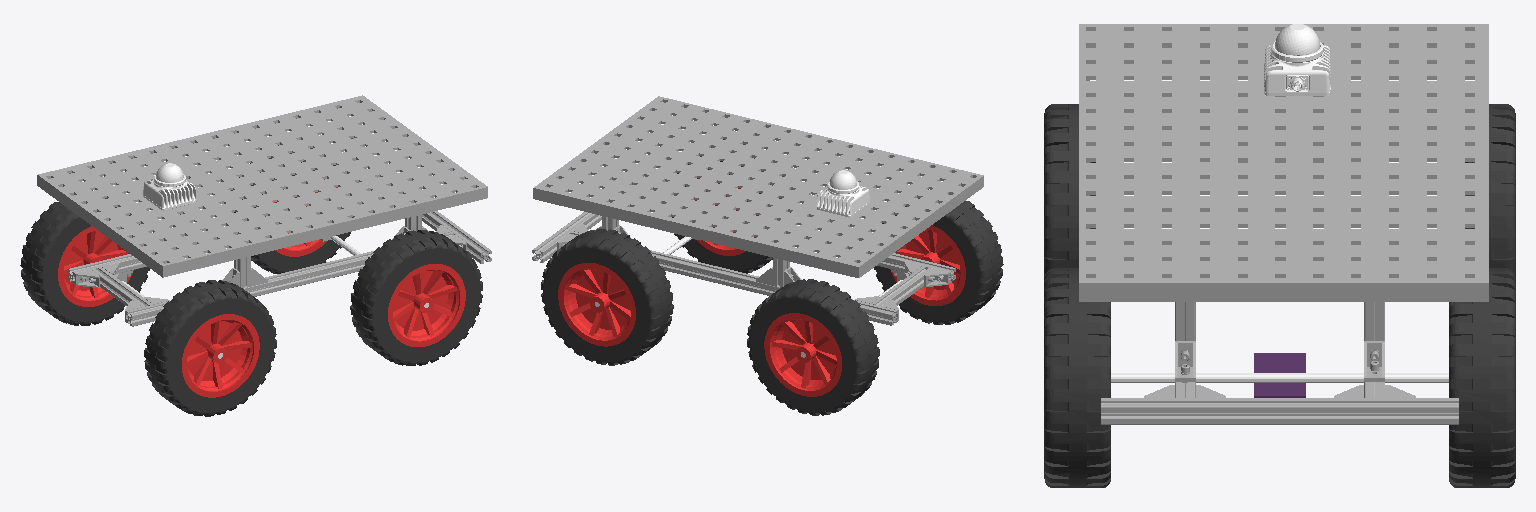
robot.urdf — chassis.SLDASM:
<?xml version="1.0" encoding="utf-8"?>
<!-- This URDF was automatically created by SolidWorks to URDF Exporter! Originally created by
Stephen Brawner (brawner@gmail.com) 
     Commit Version: 1.6.0-4-g7f85cfe  Build Version: 1.6.7995.38578
     For more information, please see http://wiki.ros.org/sw_urdf_exporter -->
<robot
  name="chassis.SLDASM">
  <link name="base_footprint" />

  <joint name="base_footprint_to_base_link" type="fixed">
    <origin xyz="0 0 0.2330727279186138" rpy="3.14159265359 1.57079632679 3.14159265359" />
    <parent link="base_footprint" />
    <child link="base_link" />
  </joint>
  <link
    name="base_link">
    <inertial>
      <origin
        xyz="0.228072734582867 -0.00375850445219656 -0.0522643184271548"
        rpy="0 0 0" />
      <mass
        value="0.05" />
      <inertia
        ixx="5.20833333333333E-05"
        ixy="5.55286076706932E-21"
        ixz="-2.25741069543197E-20"
        iyy="4.20833333333333E-05"
        iyz="-3.52615100073128E-22"
        izz="1.08333333333333E-05" />
    </inertial>
    <visual>
      <origin
        xyz="0 0 0"
        rpy="0 0 0" />
      <geometry>
        <mesh
          filename="package://chassis_description/meshes/base_link.STL" />
      </geometry>
      <material
        name="">
        <color
          rgba="0.419607843137255 0.270588235294118 0.470588235294118 0.4" />
      </material>
    </visual>
    <collision>
      <origin
        xyz="0 0 0"
        rpy="0 0 0" />
      <geometry>
        <mesh
          filename="package://chassis_description/meshes/base_link.STL" />
      </geometry>
    </collision>
  </link>
  <link
    name="fixed_items">
    <inertial>
      <origin
        xyz="-0.0670736533868715 0.00522990404692169 -0.00292033811636873"
        rpy="0 0 0" />
      <mass
        value="1.96081590488597" />
      <inertia
        ixx="0.0869685301037205"
        ixy="6.39163745645689E-08"
        ixz="7.7181344710129E-07"
        iyy="0.0217010273085329"
        iyz="-1.21642949813537E-06"
        izz="0.065602499595821" />
    </inertial>
    <visual>
      <origin
        xyz="0 0 0"
        rpy="0 0 0" />
      <geometry>
        <mesh
          filename="package://chassis_description/meshes/fixed_items.STL" />
      </geometry>
      <material
        name="">
        <color
          rgba="0.752941176470588 0.752941176470588 0.752941176470588 1" />
      </material>
    </visual>
    <collision>
      <origin
        xyz="0 0 0"
        rpy="0 0 0" />
      <geometry>
        <mesh
          filename="package://chassis_description/meshes/fixed_items.STL" />
      </geometry>
    </collision>
  </link>
  <joint
    name="fixed_items"
    type="fixed">
    <origin
      xyz="0.0673120620772911 -0.00375850445219655 0.00448582103263107"
      rpy="1.5707963267949 0 0" />
    <parent
      link="base_link" />
    <child
      link="fixed_items" />
    <axis
      xyz="0 0 0" />
  </joint>
  <link
    name="front_right">
    <inertial>
      <origin
        xyz="-1.23182001737776E-07 0.0354019102272813 5.51296193279649E-08"
        rpy="0 0 0" />
      <mass
        value="0.259428239938463" />
      <inertia
        ixx="0.00136216281068031"
        ixy="4.80923773861825E-10"
        ixz="-4.40164286014686E-10"
        iyy="0.00241162687278075"
        iyz="-1.04609215286613E-10"
        izz="0.00136215983170492" />
    </inertial>
    <visual>
      <origin
        xyz="0 0 0"
        rpy="0 0 0" />
      <geometry>
        <mesh
          filename="package://chassis_description/meshes/front_right.STL" />
      </geometry>
      <material
        name="">
        <color
          rgba="0.298039215686275 0.298039215686275 0.298039215686275 1" />
      </material>
    </visual>
    <collision>
      <origin
        xyz="0 0 0"
        rpy="0 0 0" />
      <geometry>
        <mesh
          filename="package://chassis_description/meshes/front_right.STL" />
      </geometry>
    </collision>
  </link>
  <joint
    name="front_right"
    type="fixed">
    <origin
      xyz="0.125572734582867 0.158343897850315 -0.21382268634779"
      rpy="0 1.31280559336702 0" />
    <parent
      link="base_link" />
    <child
      link="front_right" />
    <axis
      xyz="0 1 0" />
  </joint>
  <link
    name="front_right_wheel">
    <inertial>
      <origin
        xyz="0 0.0353975978318701 2.36297093003657E-12"
        rpy="0 0 0" />
      <mass
        value="0.492078704293848" />
      <inertia
        ixx="0.000685024208918095"
        ixy="-1.46073348139392E-19"
        ixz="-8.13151629364128E-20"
        iyy="0.00118197177455513"
        iyz="6.72087910854188E-20"
        izz="0.000685024208884099" />
    </inertial>
    <visual>
      <origin
        xyz="0 0 0"
        rpy="0 0 0" />
      <geometry>
        <mesh
          filename="package://chassis_description/meshes/front_right_wheel.STL" />
      </geometry>
      <material
        name="">
        <color
          rgba="0.968627450980392 0.258823529411765 0.258823529411765 1" />
      </material>
    </visual>
    <collision>
      <origin
        xyz="0 0 0"
        rpy="0 0 0" />
      <geometry>
        <mesh
          filename="package://chassis_description/meshes/front_right_wheel.STL" />
      </geometry>
    </collision>
  </link>
  <joint
    name="front_right_wheel"
    type="continuous">
    <origin
      xyz="0 0 0"
      rpy="0 -0.577811257152481 0" />
    <parent
      link="front_right" />
    <child
      link="front_right_wheel" />
    <axis
      xyz="0 -1 0" />
  </joint>
  <link
    name="front_left">
    <inertial>
      <origin
        xyz="1.35158294001236E-08 -0.0353932639104869 5.11564002270148E-09"
        rpy="0 0 0" />
      <mass
        value="0.259428711608086" />
      <inertia
        ixx="0.0013621629460603"
        ixy="7.40413894978209E-11"
        ixz="-2.64282213870365E-10"
        iyy="0.00241162997210687"
        iyz="1.71356834621018E-11"
        izz="0.00136216302311896" />
    </inertial>
    <visual>
      <origin
        xyz="0 0 0"
        rpy="0 0 0" />
      <geometry>
        <mesh
          filename="package://chassis_description/meshes/front_left.STL" />
      </geometry>
      <material
        name="">
        <color
          rgba="0.298039215686275 0.298039215686275 0.298039215686275 1" />
      </material>
    </visual>
    <collision>
      <origin
        xyz="0 0 0"
        rpy="0 0 0" />
      <geometry>
        <mesh
          filename="package://chassis_description/meshes/front_left.STL" />
      </geometry>
    </collision>
  </link>
  <joint
    name="front_left"
    type="fixed">
    <origin
      xyz="0.125572734582867 -0.16586090675474 -0.213822686347791"
      rpy="0 1.31280559336702 0" />
    <parent
      link="base_link" />
    <child
      link="front_left" />
    <axis
      xyz="0 1 0" />
  </joint>
  <link
    name="front_left_wheel">
    <inertial>
      <origin
        xyz="5.55111512312578E-17 -0.0353975975630757 2.36291541888534E-12"
        rpy="0 0 0" />
      <mass
        value="0.492078704293848" />
      <inertia
        ixx="0.000685024208918095"
        ixy="-1.22384251274877E-19"
        ixz="-5.42101086242752E-20"
        iyy="0.00118197177455513"
        iyz="2.82340898889023E-20"
        izz="0.000685024208884099" />
    </inertial>
    <visual>
      <origin
        xyz="0 0 0"
        rpy="0 0 0" />
      <geometry>
        <mesh
          filename="package://chassis_description/meshes/front_left_wheel.STL" />
      </geometry>
      <material
        name="">
        <color
          rgba="0.968627450980392 0.258823529411765 0.258823529411765 1" />
      </material>
    </visual>
    <collision>
      <origin
        xyz="0 0 0"
        rpy="0 0 0" />
      <geometry>
        <mesh
          filename="package://chassis_description/meshes/front_left_wheel.STL" />
      </geometry>
    </collision>
  </link>
  <joint
    name="front_left_wheel"
    type="continuous">
    <origin
      xyz="0 0 0"
      rpy="0 -0.577811257152481 0" />
    <parent
      link="front_left" />
    <child
      link="front_left_wheel" />
    <axis
      xyz="0 -1 0" />
  </joint>
  <link
    name="rare_left">
    <inertial>
      <origin
        xyz="9.49505991887367E-08 -0.035393286004898 1.23302397445069E-07"
        rpy="0 0 0" />
      <mass
        value="0.259428227502147" />
      <inertia
        ixx="0.00136216080806037"
        ixy="-2.26332760363519E-10"
        ixz="1.69725354132394E-09"
        iyy="0.00241162679846269"
        iyz="-3.89204321173845E-10"
        izz="0.00136216174542507" />
    </inertial>
    <visual>
      <origin
        xyz="0 0 0"
        rpy="0 0 0" />
      <geometry>
        <mesh
          filename="package://chassis_description/meshes/rare_left.STL" />
      </geometry>
      <material
        name="">
        <color
          rgba="0.298039215686275 0.298039215686275 0.298039215686275 1" />
      </material>
    </visual>
    <collision>
      <origin
        xyz="0 0 0"
        rpy="0 0 0" />
      <geometry>
        <mesh
          filename="package://chassis_description/meshes/rare_left.STL" />
      </geometry>
    </collision>
  </link>
  <joint
    name="rare_left"
    type="fixed">
    <origin
      xyz="0.125572734582867 -0.16586090675474 0.166211482877379"
      rpy="0 -1.0423567919101 0" />
    <parent
      link="base_link" />
    <child
      link="rare_left" />
    <axis
      xyz="0 1 0" />
  </joint>
  <link
    name="rare_left_wheel">
    <inertial>
      <origin
        xyz="2.32464048011138E-12 -0.0353975975630755 4.230227279578E-13"
        rpy="0 0 0" />
      <mass
        value="0.492078704293848" />
      <inertia
        ixx="0.000685024208885188"
        ixy="3.78132284208099E-20"
        ixz="-5.9879062971023E-15"
        iyy="0.00118197177455512"
        iyz="1.31780861220297E-20"
        izz="0.000685024208917004" />
    </inertial>
    <visual>
      <origin
        xyz="0 0 0"
        rpy="0 0 0" />
      <geometry>
        <mesh
          filename="package://chassis_description/meshes/rare_left_wheel.STL" />
      </geometry>
      <material
        name="">
        <color
          rgba="0.968627450980392 0.258823529411765 0.258823529411765 1" />
      </material>
    </visual>
    <collision>
      <origin
        xyz="0 0 0"
        rpy="0 0 0" />
      <geometry>
        <mesh
          filename="package://chassis_description/meshes/rare_left_wheel.STL" />
      </geometry>
    </collision>
  </link>
  <joint
    name="rare_left_wheel"
    type="continuous">
    <origin
      xyz="0 0 0"
      rpy="0 -0.57781125715248 0" />
    <parent
      link="rare_left" />
    <child
      link="rare_left_wheel" />
    <axis
      xyz="0 -1 0" />
  </joint>
  <link
    name="rare_right">
    <inertial>
      <origin
        xyz="-1.10520934071268E-09 0.0354019333270385 5.44597289486859E-09"
        rpy="0 0 0" />
      <mass
        value="0.259428831657285" />
      <inertia
        ixx="0.0013621636268984"
        ixy="3.14627818978861E-11"
        ixz="4.97141442595828E-11"
        iyy="0.00241163082582338"
        iyz="-7.17181289090968E-11"
        izz="0.0013621631462981" />
    </inertial>
    <visual>
      <origin
        xyz="0 0 0"
        rpy="0 0 0" />
      <geometry>
        <mesh
          filename="package://chassis_description/meshes/rare_right.STL" />
      </geometry>
      <material
        name="">
        <color
          rgba="0.298039215686275 0.298039215686275 0.298039215686275 1" />
      </material>
    </visual>
    <collision>
      <origin
        xyz="0 0 0"
        rpy="0 0 0" />
      <geometry>
        <mesh
          filename="package://chassis_description/meshes/rare_right.STL" />
      </geometry>
    </collision>
  </link>
  <joint
    name="rare_right"
    type="fixed">
    <origin
      xyz="0.125572734582867 0.158343897850315 0.166211482877379"
      rpy="0 -1.0423567919101 0" />
    <parent
      link="base_link" />
    <child
      link="rare_right" />
    <axis
      xyz="0 1 0" />
  </joint>
  <link
    name="rare_right_wheel">
    <inertial>
      <origin
        xyz="2.32472374683823E-12 0.0353975978318702 4.22994972382185E-13"
        rpy="0 0 0" />
      <mass
        value="0.492078704293848" />
      <inertia
        ixx="0.000685024208885188"
        ixy="2.07548779155651E-21"
        ixz="-5.9879367902884E-15"
        iyy="0.00118197177455512"
        iyz="3.01757565830602E-20"
        izz="0.000685024208917004" />
    </inertial>
    <visual>
      <origin
        xyz="0 0 0"
        rpy="0 0 0" />
      <geometry>
        <mesh
          filename="package://chassis_description/meshes/rare_right_wheel.STL" />
      </geometry>
      <material
        name="">
        <color
          rgba="0.968627450980392 0.258823529411765 0.258823529411765 1" />
      </material>
    </visual>
    <collision>
      <origin
        xyz="0 0 0"
        rpy="0 0 0" />
      <geometry>
        <mesh
          filename="package://chassis_description/meshes/rare_right_wheel.STL" />
      </geometry>
    </collision>
  </link>
  <joint
    name="rare_right_wheel"
    type="continuous">
    <origin
      xyz="0 0 0"
      rpy="0 -0.57781125715248 0" />
    <parent
      link="rare_right" />
    <child
      link="rare_right_wheel" />
    <axis
      xyz="0 -1 0" />
  </joint>
  <link
    name="lidar_link">
    <inertial>
      <origin
        xyz="-0.0145681991391865 0.0284002458613972 -0.00338045257653012"
        rpy="0 0 0" />
      <mass
        value="0.0525946177514041" />
      <inertia
        ixx="1.13747417843716E-05"
        ixy="-2.72968524257275E-07"
        ixz="5.62088665543768E-09"
        iyy="1.9169855537674E-05"
        iyz="-4.04646172713212E-10"
        izz="1.13970227201131E-05" />
    </inertial>
    <visual>
      <origin
        xyz="0 0 0"
        rpy="0 0 0" />
      <geometry>
        <mesh
          filename="package://chassis_description/meshes/lidar_link.STL" />
      </geometry>
      <material
        name="">
        <color
          rgba="1 1 1 1" />
      </material>
    </visual>
    <collision>
      <origin
        xyz="0 0 0"
        rpy="0 0 0" />
      <geometry>
        <mesh
          filename="package://chassis_description/meshes/lidar_link.STL" />
      </geometry>
    </collision>
  </link>
  <joint
    name="lidar_link"
    type="fixed">
    <origin
      xyz="-0.04 0.00999999999999999 -0.15"
      rpy="1.57079632679489 -1.5358897417551 0" />
    <parent
      link="base_link" />
    <child
      link="lidar_link" />
    <axis
      xyz="0 0 0" />
  </joint>
  <link
    name="front_axel">
    <inertial>
      <origin
        xyz="0.000572734582866663 0.00117731365220958 0.00375850445219654"
        rpy="0 0 0" />
      <mass
        value="0.0361283155162826" />
      <inertia
        ixx="0.000637288432242427"
        ixy="-1.58542950739347E-24"
        ixz="-8.34365827143462E-20"
        iyy="0.000637288432242427"
        iyz="1.55301521119099E-19"
        izz="4.51603943953533E-07" />
    </inertial>
    <visual>
      <origin
        xyz="0 0 0"
        rpy="0 0 0" />
      <geometry>
        <mesh
          filename="package://chassis_description/meshes/front_axel.STL" />
      </geometry>
      <material
        name="">
        <color
          rgba="1 1 1 1" />
      </material>
    </visual>
    <collision>
      <origin
        xyz="0 0 0"
        rpy="0 0 0" />
      <geometry>
        <mesh
          filename="package://chassis_description/meshes/front_axel.STL" />
      </geometry>
    </collision>
  </link>
  <joint
    name="front_axel"
    type="fixed">
    <origin
      xyz="0.125 0 -0.215"
      rpy="1.5707963267949 0 0" />
    <parent
      link="base_link" />
    <child
      link="front_axel" />
    <axis
      xyz="0 0 -1" />
  </joint>
  <link
    name="rear_axel">
    <inertial>
      <origin
        xyz="0.00375850445219643 0.00121148287737907 -0.000572734582866746"
        rpy="0 0 0" />
      <mass
        value="0.0361283155162826" />
      <inertia
        ixx="4.51603943953533E-07"
        ixy="5.98891791213592E-21"
        ixz="-3.75471127944586E-20"
        iyy="0.000637288432242427"
        iyz="-2.10241739023749E-23"
        izz="0.000637288432242427" />
    </inertial>
    <visual>
      <origin
        xyz="0 0 0"
        rpy="0 0 0" />
      <geometry>
        <mesh
          filename="package://chassis_description/meshes/rear_axel.STL" />
      </geometry>
      <material
        name="">
        <color
          rgba="1 1 1 1" />
      </material>
    </visual>
    <collision>
      <origin
        xyz="0 0 0"
        rpy="0 0 0" />
      <geometry>
        <mesh
          filename="package://chassis_description/meshes/rear_axel.STL" />
      </geometry>
    </collision>
  </link>
  <joint
    name="rear_axel"
    type="fixed">
    <origin
      xyz="0.125 0 0.165"
      rpy="1.5707963267949 0 -1.5707963267949" />
    <parent
      link="base_link" />
    <child
      link="rear_axel" />
    <axis
      xyz="-1 0 0" />
  </joint>
</robot>

--- Render facts (derived) ---
Views: 3 orthographic renders of the robot side by side, from view 1: azimuth 30°, elevation 25°; view 2: azimuth 150°, elevation 25°; view 3: azimuth 270°, elevation 25°.
Model chassis.SLDASM with 14 links and 13 joints (4 continuous, 9 fixed), rooted at base_footprint, posed all joints at 0.
Visible links, largest first — view 1: fixed_items, rare_left, front_left, front_right, front_left_wheel, rare_left_wheel, front_right_wheel, lidar_link, rare_right; view 2: fixed_items, rare_right, front_right, front_left, front_right_wheel, rare_right_wheel, front_left_wheel, lidar_link, rare_left; view 3: fixed_items, rare_left, rare_right, front_left, front_right, lidar_link, rear_axel, base_link.
Link boxes in pixels (box(x1,y1,x2,y2)): fixed_items: box(37, 95, 491, 326); rare_left: box(350, 230, 482, 365); front_left: box(144, 280, 276, 416); front_right: box(20, 190, 149, 325); front_left_wheel: box(182, 314, 259, 397); rare_left_wheel: box(388, 264, 465, 346); front_right_wheel: box(58, 226, 133, 306); lidar_link: box(143, 163, 196, 210); rare_right: box(231, 145, 352, 273); fixed_items: box(532, 96, 983, 325); rare_right: box(541, 229, 673, 365); front_right: box(747, 279, 879, 415); front_left: box(874, 189, 1003, 324); front_right_wheel: box(764, 313, 841, 396); rare_right_wheel: box(558, 263, 635, 346); front_left_wheel: box(890, 225, 965, 305); lidar_link: box(817, 170, 869, 217); rare_left: box(672, 139, 790, 273); fixed_items: box(1079, 24, 1488, 424); rare_left: box(1044, 268, 1110, 487); rare_right: box(1449, 268, 1515, 487); front_left: box(1044, 104, 1095, 277); front_right: box(1465, 104, 1515, 277); lidar_link: box(1264, 24, 1330, 95); rear_axel: box(1111, 373, 1448, 382); base_link: box(1254, 353, 1305, 397).
Bounding box of the posed robot: 0.6385 × 0.46 × 0.332 m (x, y, z).
13 mesh visuals loaded from 13 distinct referenced files (13 binary STL).
